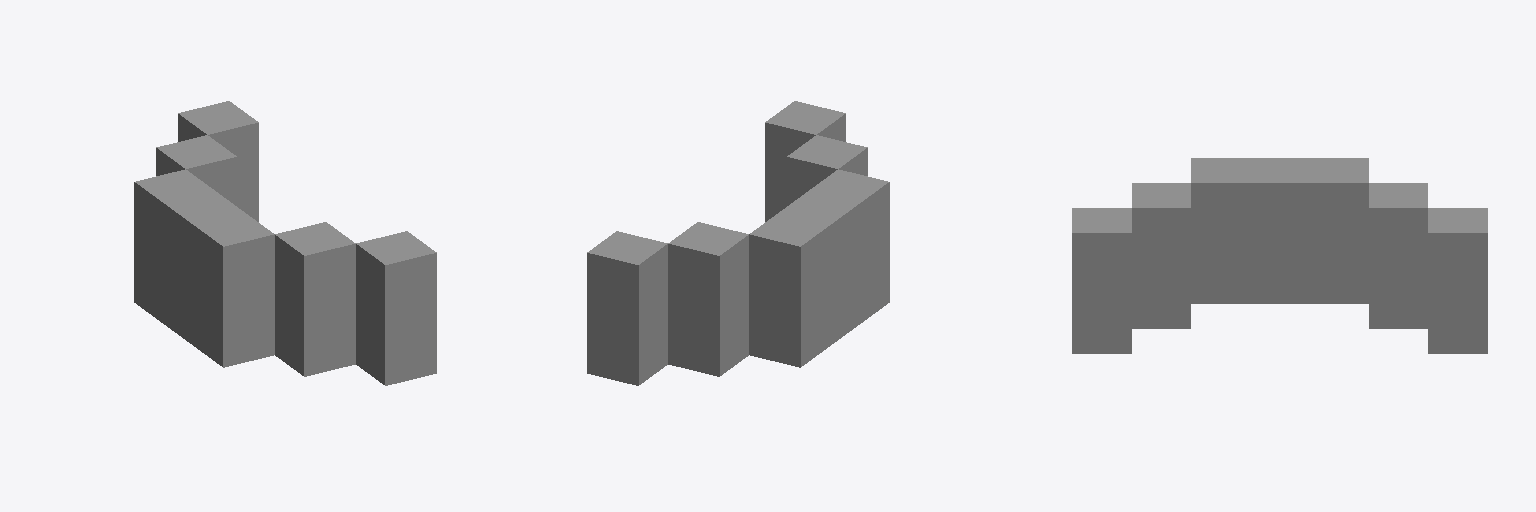
The model's file is Round_Bracket_Open.obj.
3 views of the same model, side by side, from view 1: azimuth 30°, elevation 25°; view 2: azimuth 150°, elevation 25°; view 3: azimuth 270°, elevation 25° (orthographic).
Visible parts, largest first — view 1: Round_Bracket_Open_CUABC.042; view 2: Round_Bracket_Open_CUABC.042; view 3: Round_Bracket_Open_CUABC.042.
Boxes of the visible parts, box(x1,y1,x2,y2) form: Round_Bracket_Open_CUABC.042: box(134, 101, 436, 385); Round_Bracket_Open_CUABC.042: box(587, 101, 889, 385); Round_Bracket_Open_CUABC.042: box(1072, 158, 1487, 353).
Size of the model in its own units: 0.3333 by 0.25 by 0.7778.